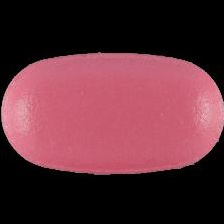24338-102: (0, 0, 224, 224)
